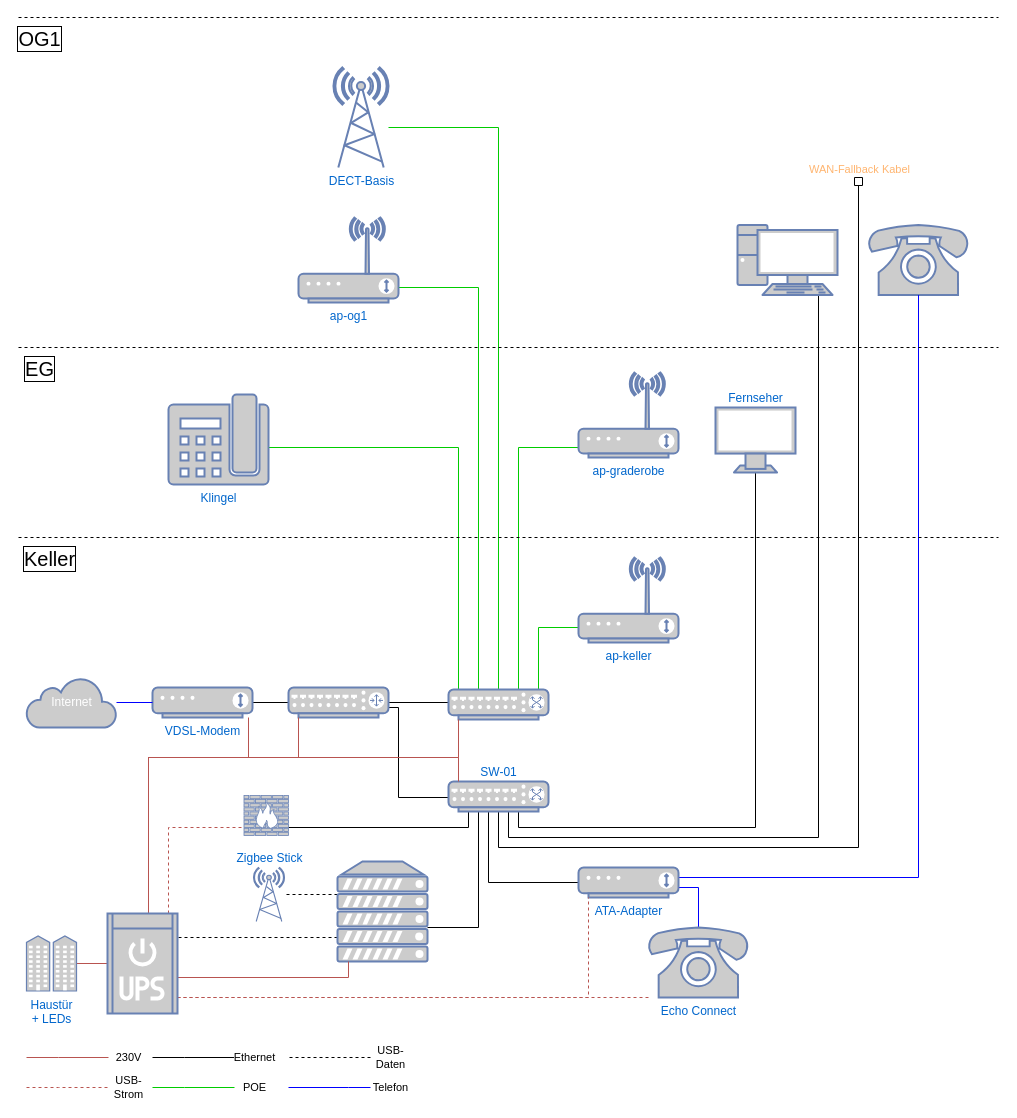
This 1017x1118 diagram has some shape labels left out. The shapes that lost their labels are listed below. From the top down, each one's centre as x and y in pixels, then its label:
At point 787,260: "Neues Ding".
At point 918,260: "gelbes Telefon".
At point 338,702: "Router".
At point 498,704: "SW-02 (POE)".
At point 265,815: "BSB-LAN (Heizung)".
At point 382,911: "Homepi".
